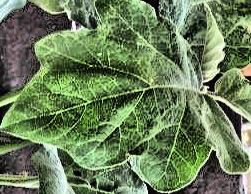HEALTHY: (1, 0, 251, 194)
